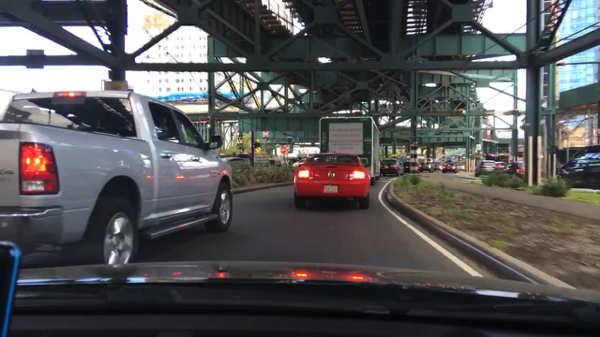car: (291, 150, 372, 209), (556, 152, 599, 190), (503, 159, 536, 182), (379, 158, 403, 177), (474, 160, 496, 177), (220, 154, 245, 168), (442, 160, 457, 174), (401, 161, 418, 173), (419, 160, 432, 172), (292, 158, 306, 167), (497, 161, 506, 170), (458, 162, 465, 170), (432, 164, 440, 169)
traffic light: (452, 110, 467, 115), (511, 109, 521, 114)
traffic sign: (253, 145, 262, 154), (198, 116, 209, 122), (486, 129, 492, 139), (262, 129, 268, 138), (278, 146, 285, 153)
truck: (0, 88, 235, 269), (318, 116, 382, 183)
